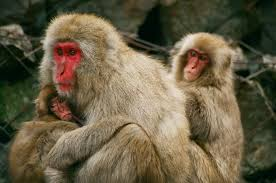monkey: (28, 7, 166, 183), (122, 16, 271, 165), (9, 80, 82, 183)
